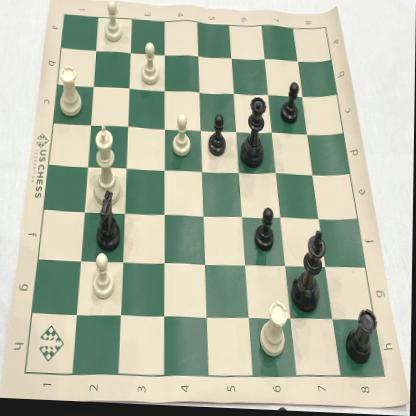black-king: (288, 227, 329, 318)
black-knight: (94, 191, 126, 255)
black-pawn: (252, 206, 278, 258), (280, 78, 302, 128), (206, 113, 228, 161)
black-queen: (240, 93, 268, 172)
black-rook: (346, 305, 380, 368), (257, 298, 290, 360)
white-king: (90, 122, 124, 210)
white-pawn: (90, 254, 116, 304), (171, 114, 194, 163), (138, 41, 161, 89), (101, 1, 124, 47)
white-rook: (57, 68, 86, 120)
